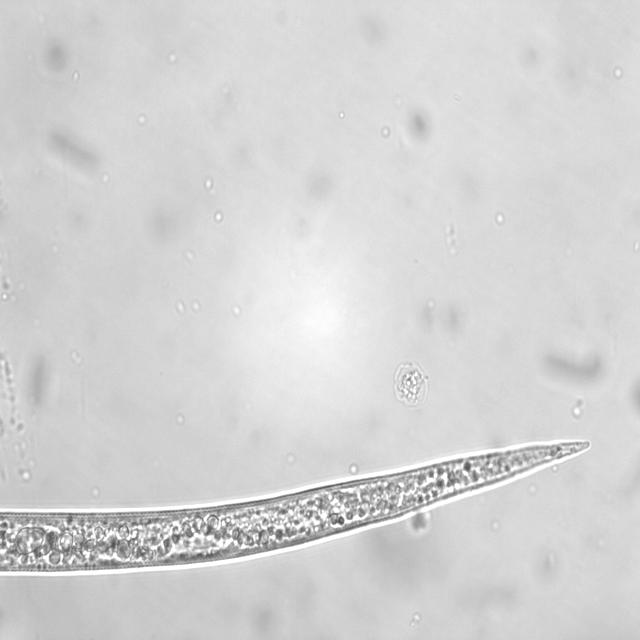Meloidogyne: (0, 428, 598, 576)
